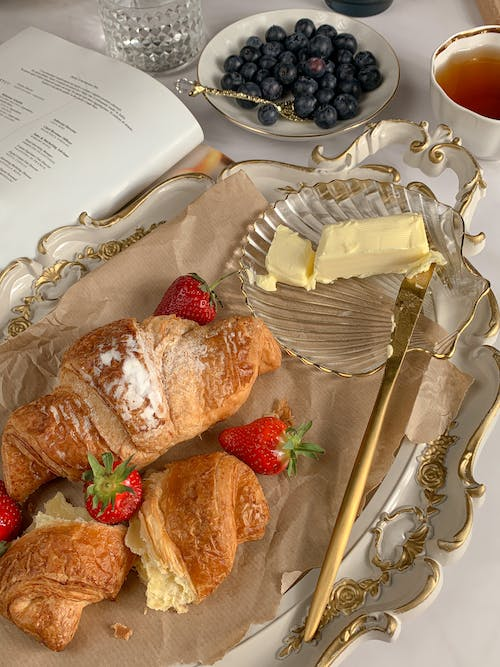knife: (300, 243, 444, 645)
